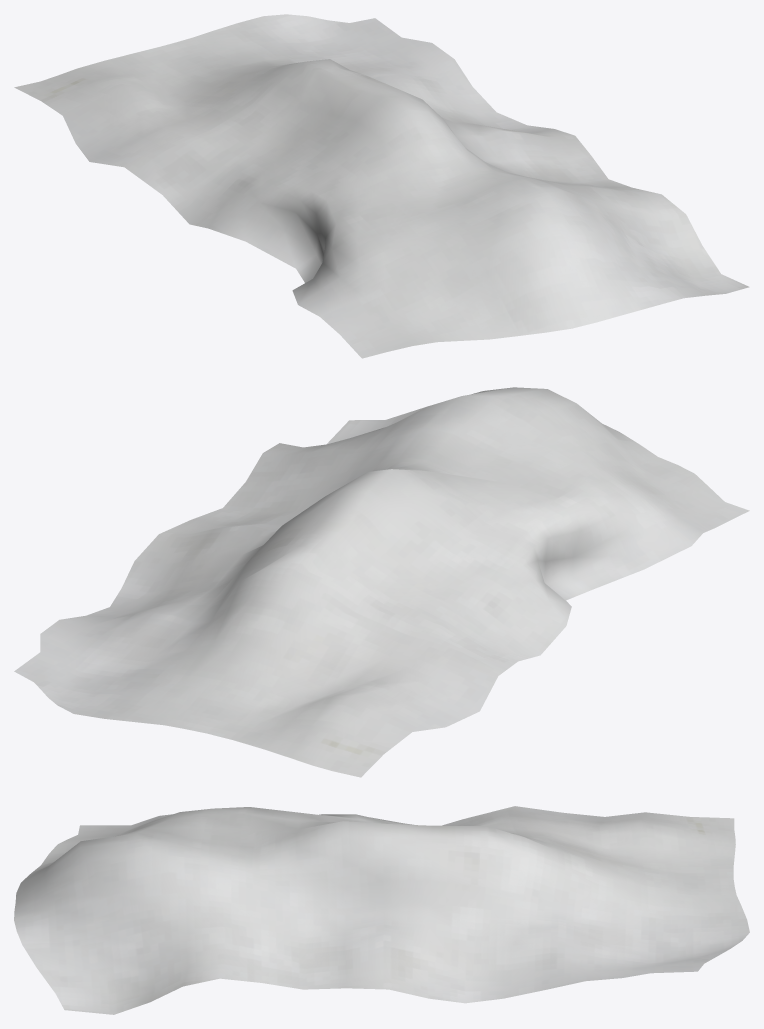
File: snow_dummy_1.fbx
The picture shows the model from 3 angles, top to bottom: view 1: azimuth 30°, elevation 25°; view 2: azimuth 150°, elevation 25°; view 3: azimuth 270°, elevation 25°; orthographic projection. The views are drawn at different scales.
Visible parts, largest first — view 1: snow_dummy_1; view 2: snow_dummy_1; view 3: snow_dummy_1.
Part boxes in pixels (left/top/right/bottom): snow_dummy_1: left=14, top=14, right=749, bottom=358; snow_dummy_1: left=14, top=387, right=749, bottom=777; snow_dummy_1: left=14, top=806, right=749, bottom=1014.
Size of the model in its own units: 468 by 822 by 134.
